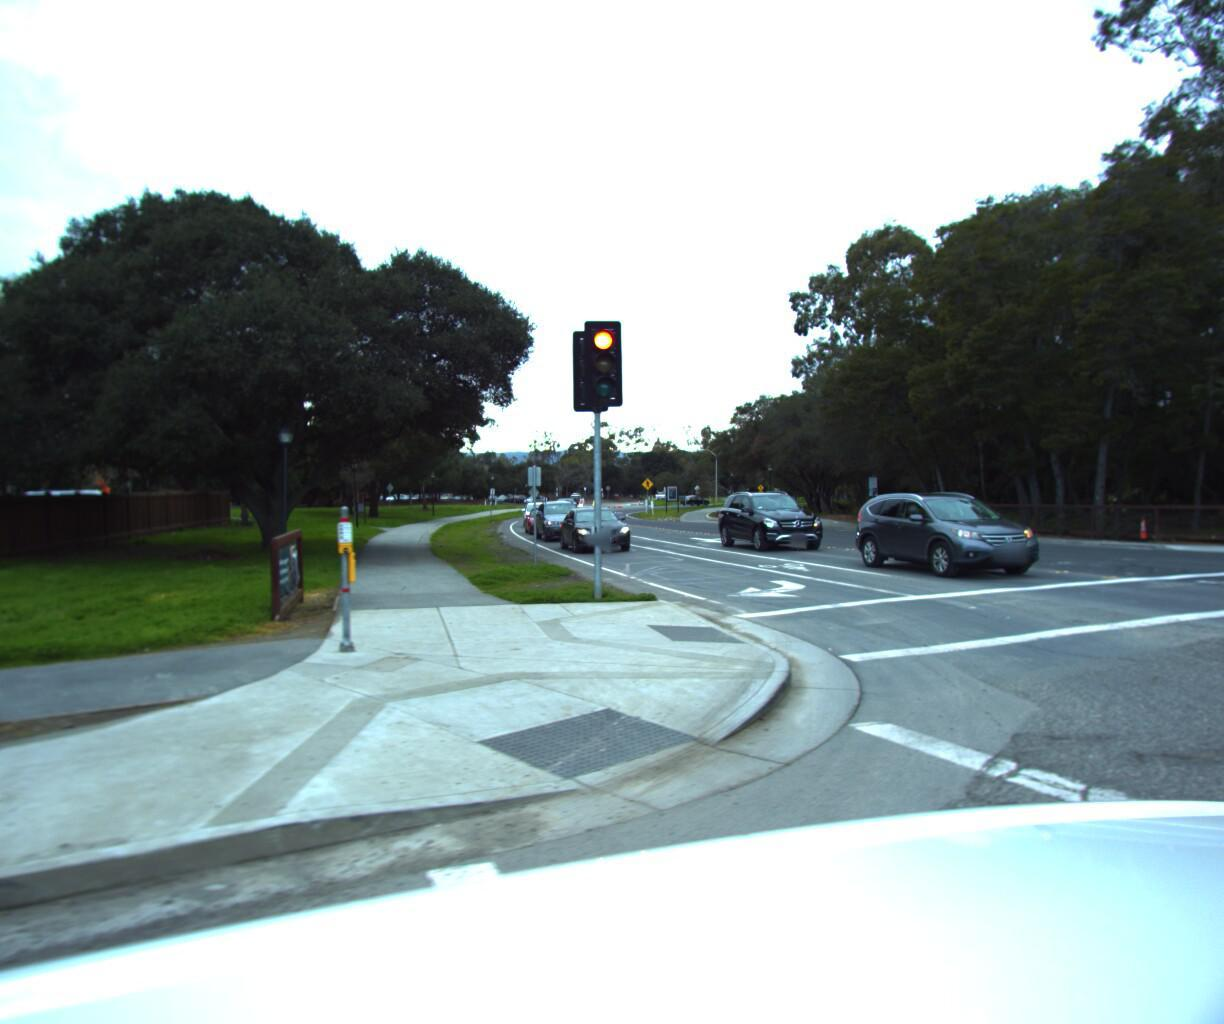car: (842, 486, 1064, 578), (715, 487, 822, 548), (552, 503, 642, 552), (530, 494, 596, 539), (522, 503, 569, 536), (517, 498, 555, 525)
